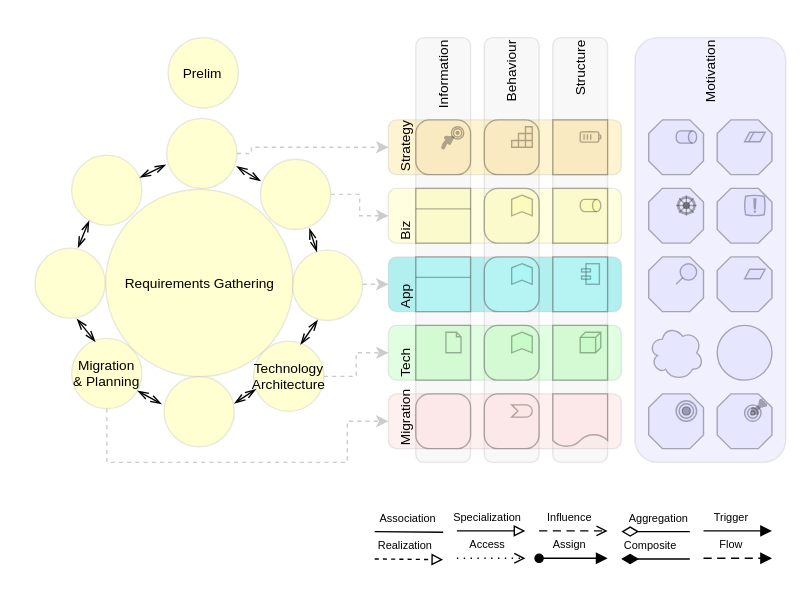
Image size: 810x599. Some labels were removed from this diagram. The shapes that lost their labels are listed below. From the top down, each one's centre as x and y in pixels, then its label:
the point at 201,153: Architectural Vision
the point at 106,189: Architecture & Change Management
the point at 295,193: Business Architecture
the point at 69,282: Implementation & Governance
the point at 327,284: Information Architecture
the point at 198,411: Opportunities & Solutions
